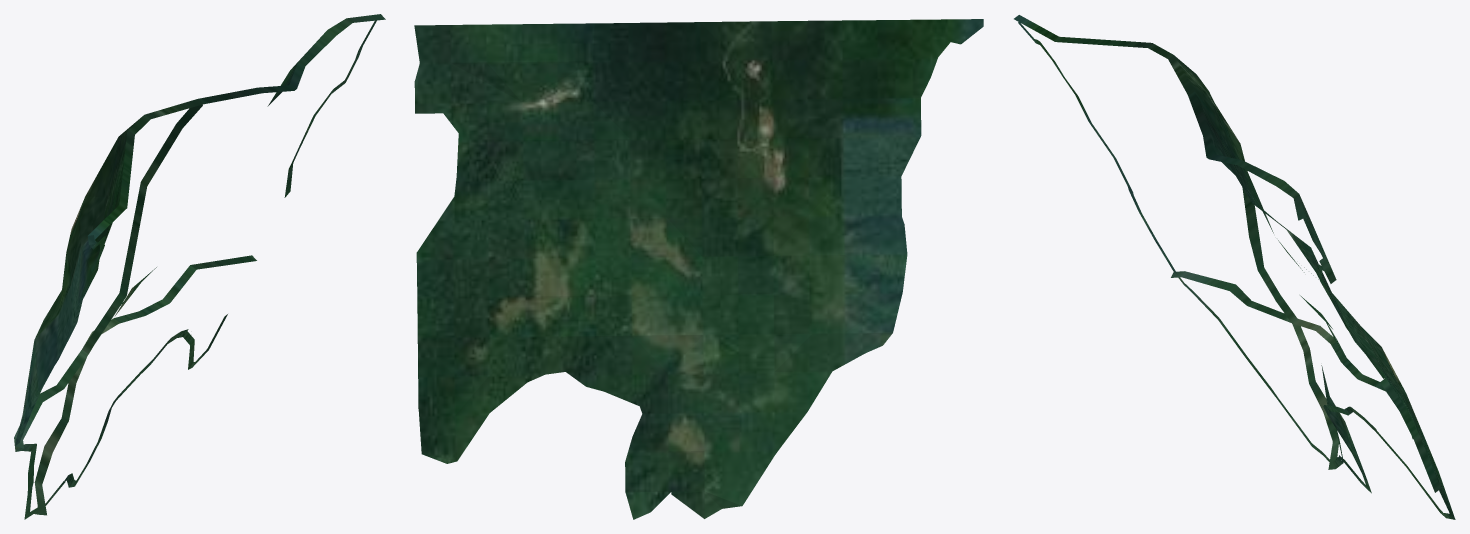
3 views of the same model, side by side, from view 1: azimuth 30°, elevation 25°; view 2: azimuth 150°, elevation 25°; view 3: azimuth 270°, elevation 25° (orthographic). The views are drawn at different scales.
Size of the model in its own units: 1906 by 1861 by 1772.
1 material, 1 textured.
